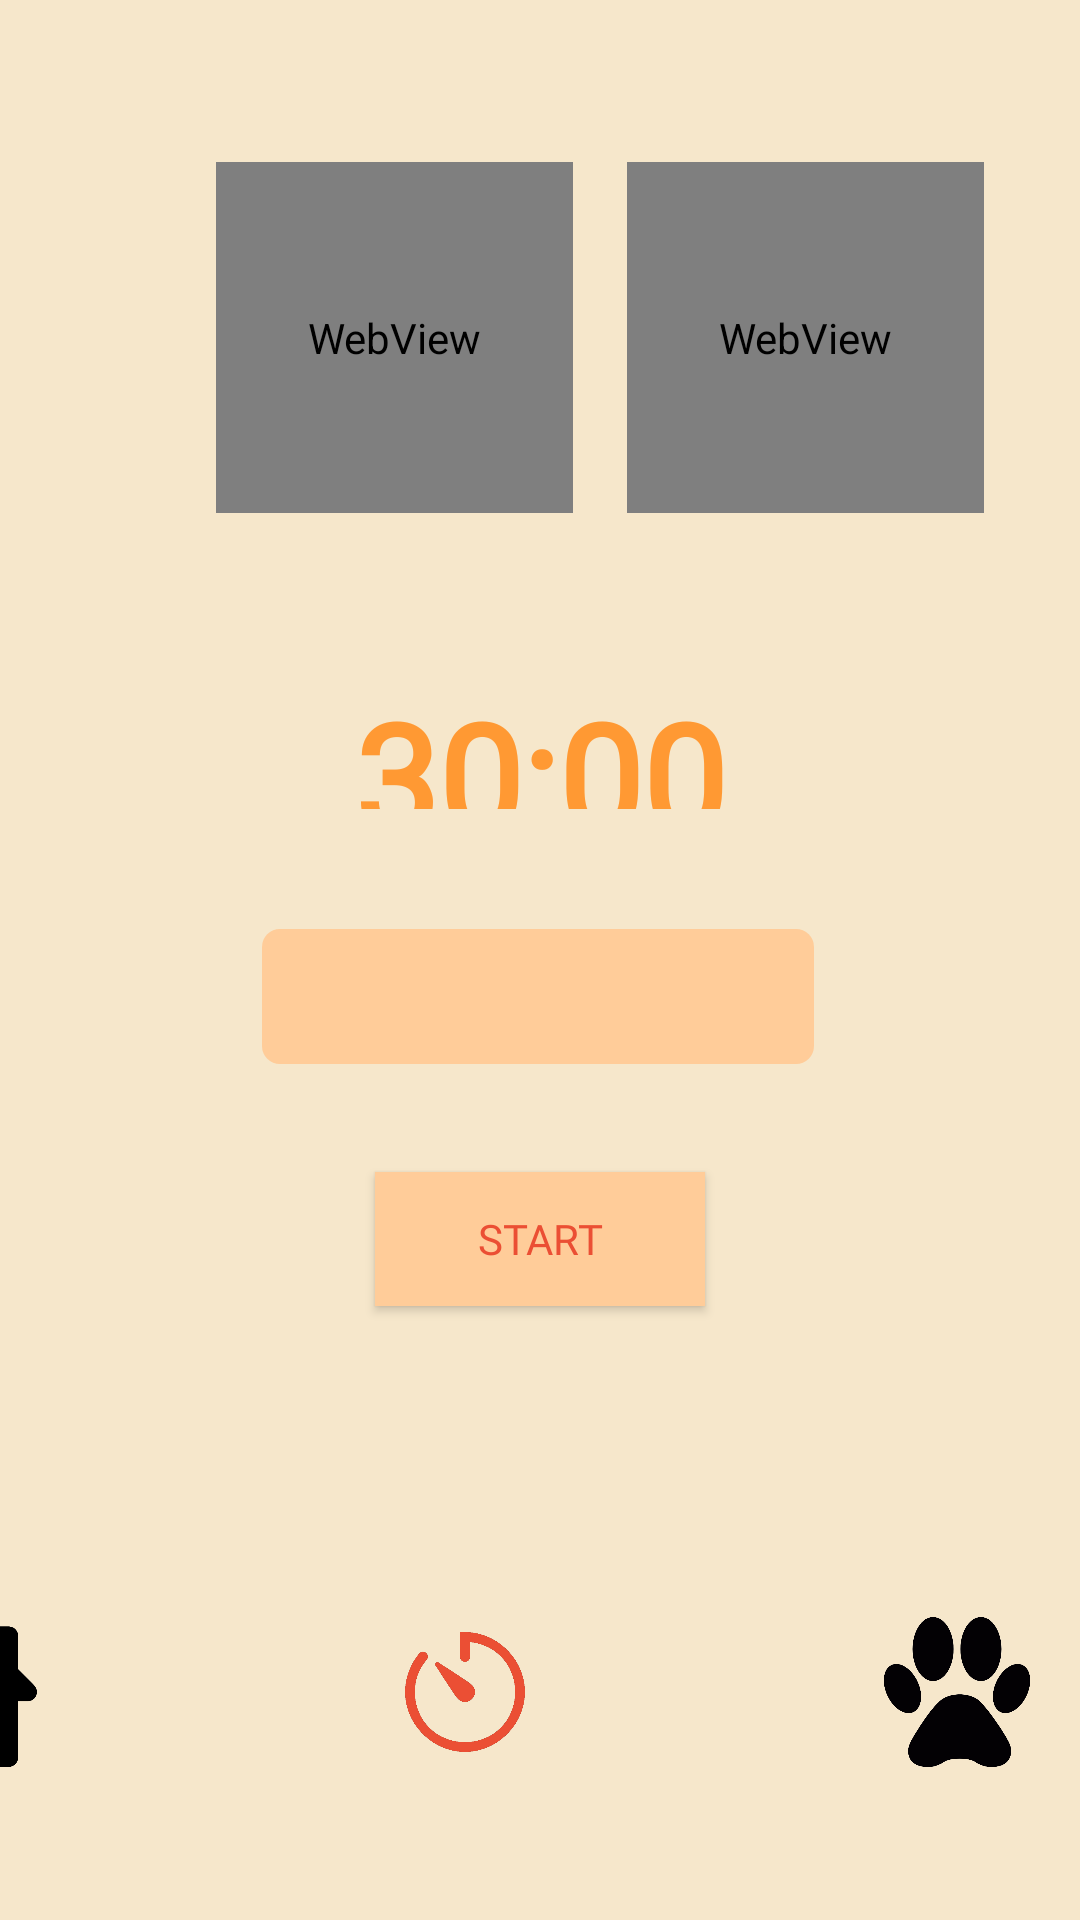

Where to tap for icons on this 1080×1920 app screen, as (x=x, y=y):
pawcol: (x=957, y=1692)
timerhi: (x=465, y=1692)
